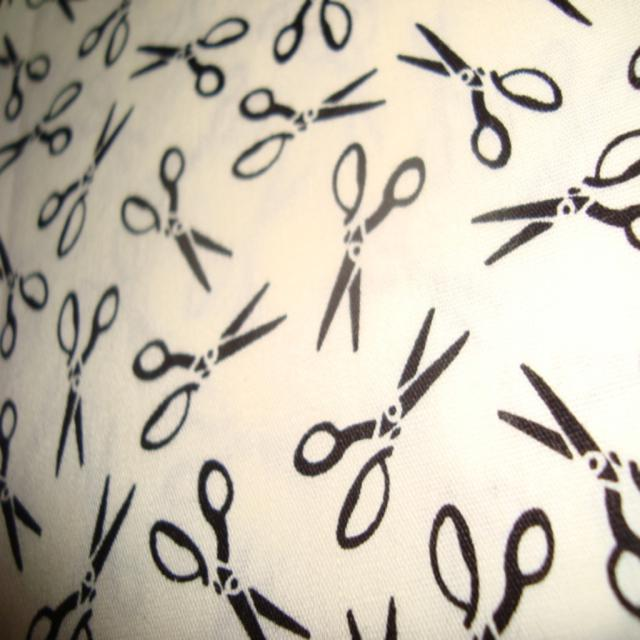scissors: (288, 292, 480, 556), (488, 332, 640, 606), (126, 260, 294, 460), (388, 9, 572, 175), (148, 463, 312, 640), (315, 142, 426, 352), (225, 47, 388, 184), (119, 134, 237, 300), (30, 94, 138, 263), (40, 272, 127, 477), (127, 9, 258, 105)
